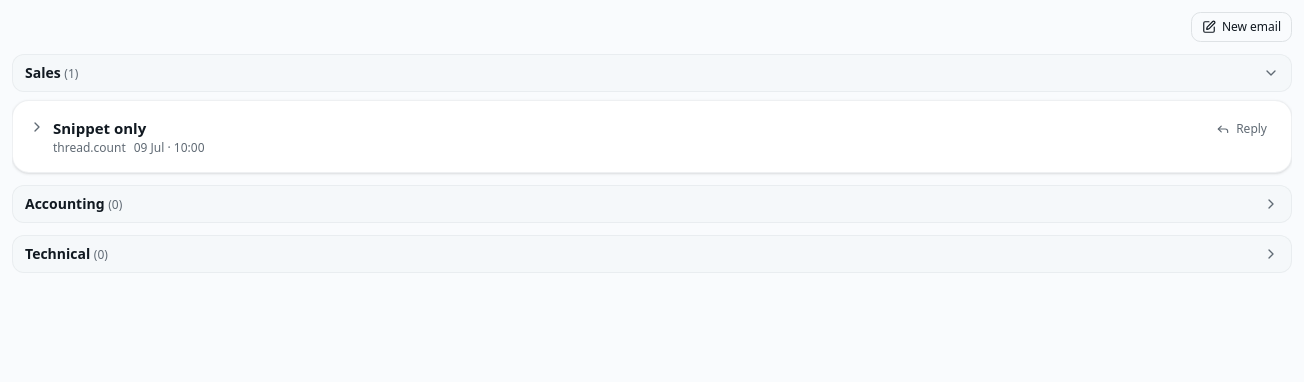
EmailThreadList › falls back to snippet when both body_text and body_html are empty
Step 1. Click the button "Snippet only thread.count 09 Jul · 10:00" → (100, 128), box [29,117,1200,156]
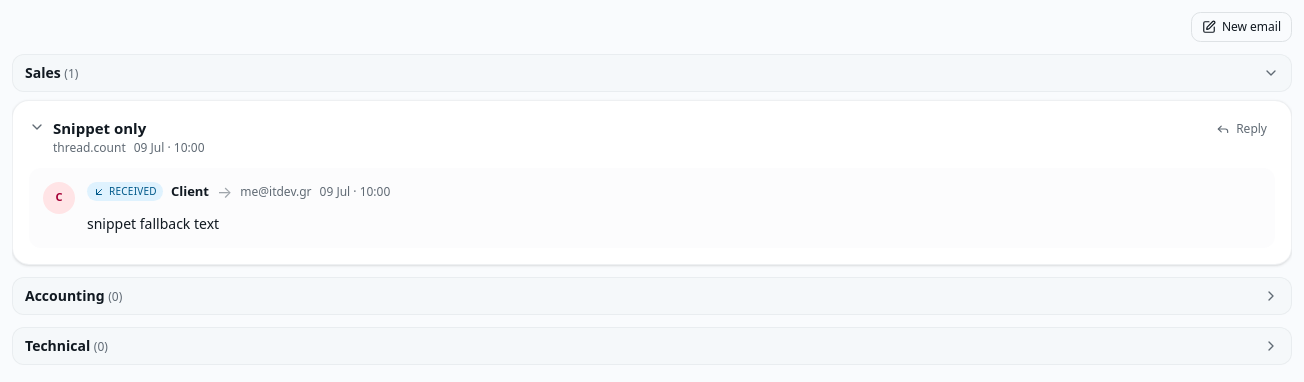
Check: the text "snippet fallback text" is shown, box [87,214,219,232]
